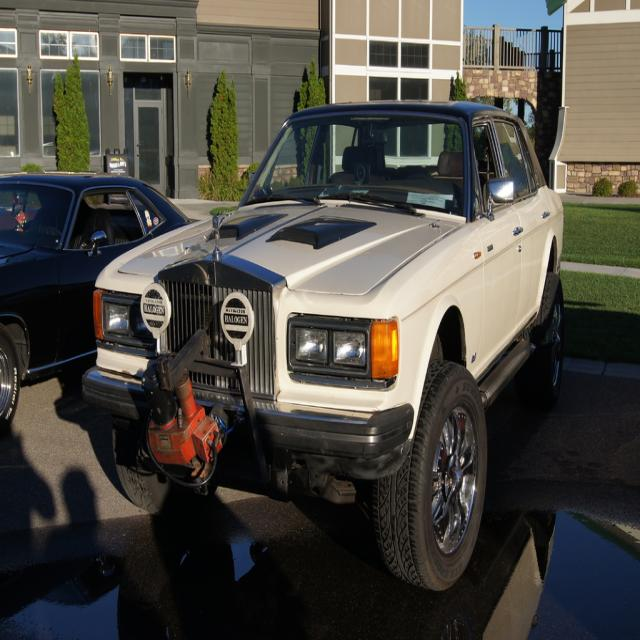car: (82, 99, 565, 593)
